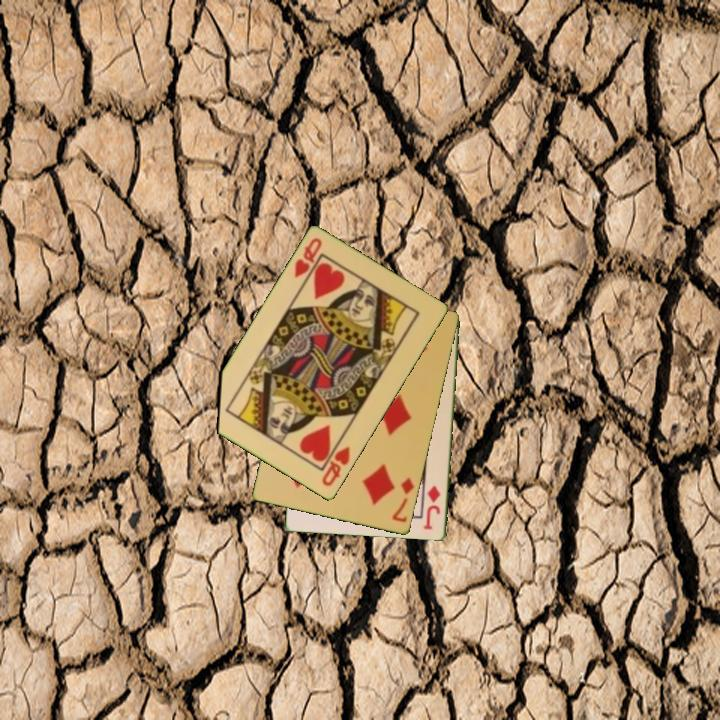7d: (389, 474, 417, 526)
Jd: (421, 482, 444, 533)
Qh: (318, 443, 353, 490), (291, 235, 325, 281)
